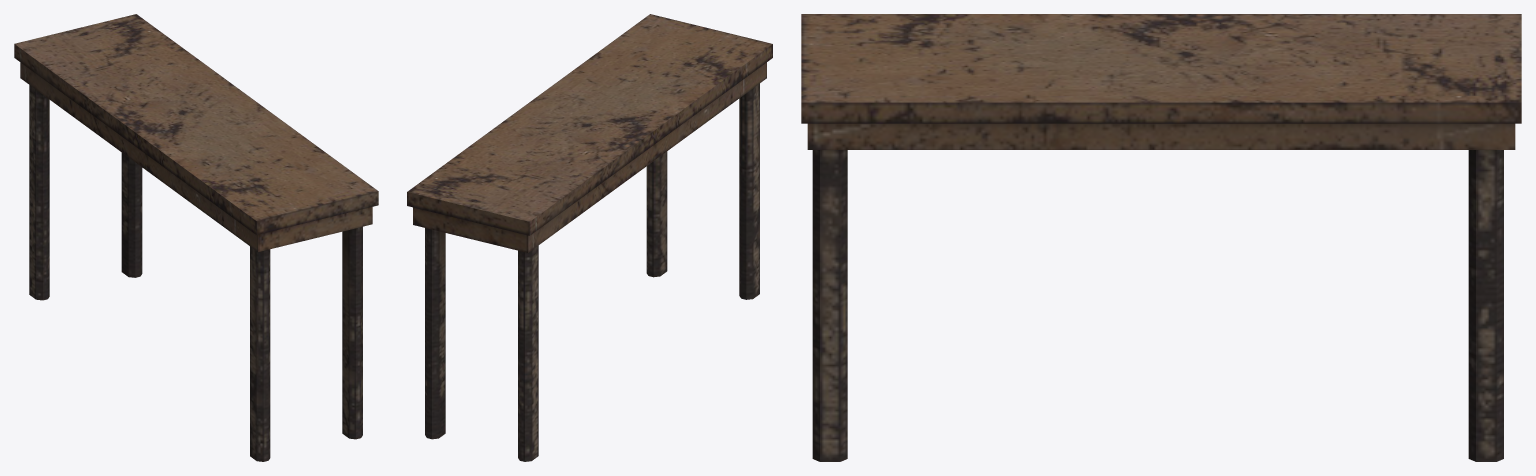
Rendered from OfficeTable.FBX.
3 views of the same model, side by side, from view 1: azimuth 30°, elevation 25°; view 2: azimuth 150°, elevation 25°; view 3: azimuth 270°, elevation 25° (orthographic). The views are drawn at different scales.
Visible parts, largest first — view 1: OfficeTable; view 2: OfficeTable; view 3: OfficeTable.
Boxes of the visible parts, <box> form: OfficeTable: <box>14,14,378,461</box>; OfficeTable: <box>407,14,772,461</box>; OfficeTable: <box>801,14,1521,461</box>.
Size of the model in its own units: 45.57 by 87.74 by 156.
